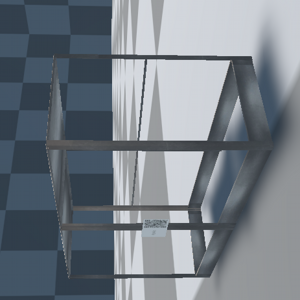Rack: (23, 18, 256, 247)
